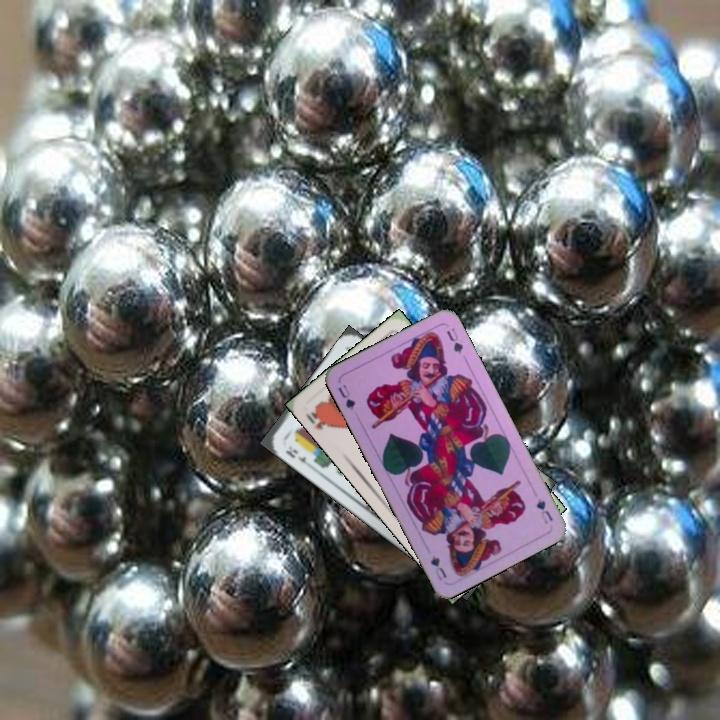EK: (281, 442, 313, 469)
GU: (333, 380, 358, 413), (532, 495, 555, 526)
HO: (307, 403, 335, 432)
